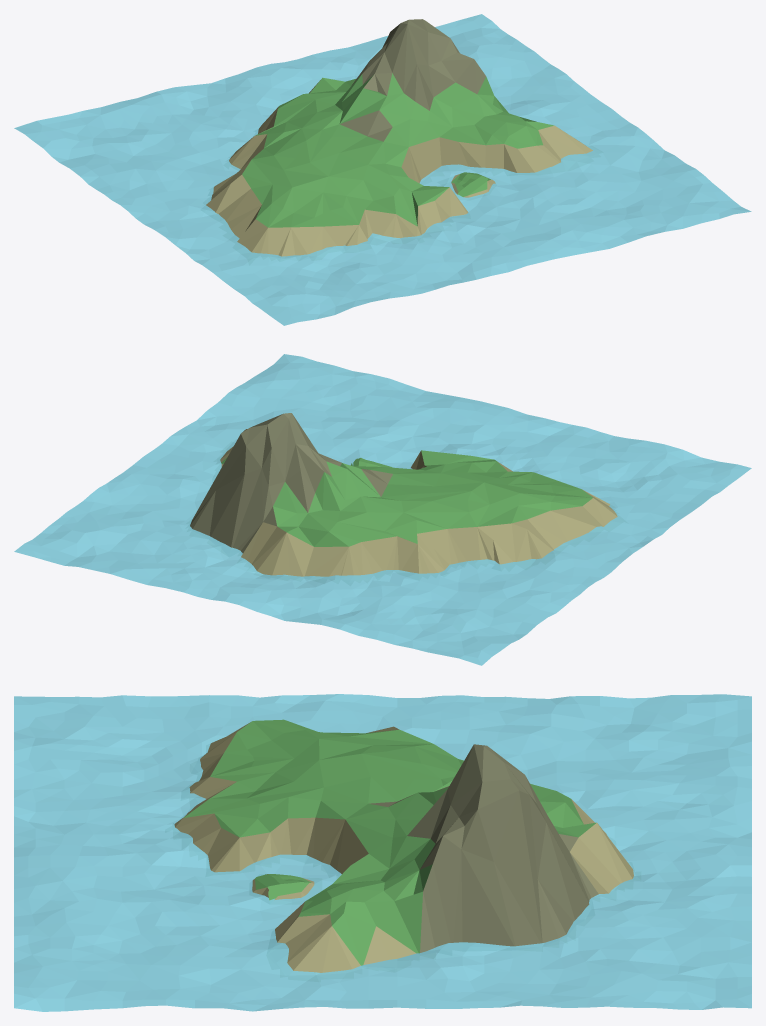
The model's file is Island.fbx.
3 views of the same model, one above another, from view 1: azimuth 30°, elevation 25°; view 2: azimuth 150°, elevation 25°; view 3: azimuth 270°, elevation 25° (orthographic). The views are drawn at different scales.
Parts seen in each view (by area): view 1: Plane.001, Plane; view 2: Plane.001, Plane; view 3: Plane.001, Plane.
Part boxes in pixels (x1,y1,x2,y2): Plane.001: (14, 14, 751, 325); Plane: (206, 19, 592, 256); Plane.001: (14, 354, 751, 665); Plane: (190, 413, 617, 576); Plane.001: (14, 694, 751, 1011); Plane: (174, 719, 633, 972).
Size of the model in its own units: 1880 by 450 by 1880.
